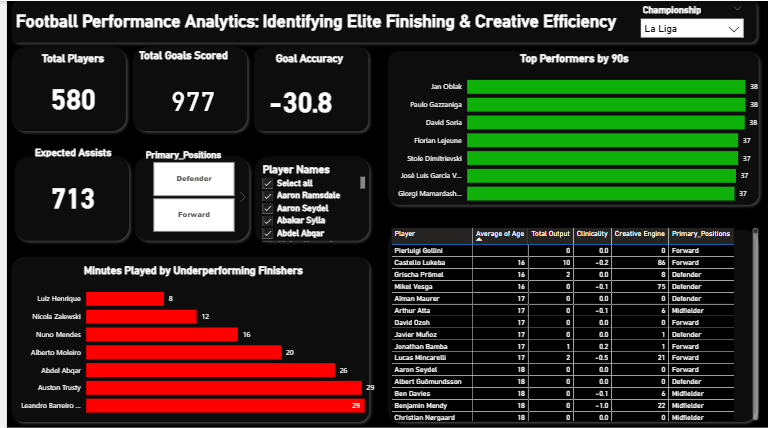

The dashboard page shown, as its layout file describes it:
{"tool":"powerbi","page":{"name":"Page 1","canvas":[1280,720],"ordinal":0},"visuals":[{"type":"cardVisual","title":"Total Players","fields":{"Data":["Count(Football_Clean_Final csv.Player)"]},"box":[15.3,86.5,191.6,139],"z":0},{"type":"cardVisual","title":"Goal Accuracy","fields":{"Data":["Football_Clean_Final csv.Clinicality"]},"box":[415.4,86.5,186.5,139],"z":1000},{"type":"slicer","fields":{"Values":["Football_Clean_Final csv.League"]},"box":[1054.5,0,191.6,74.6],"z":2000},{"type":"slicer","fields":{"Values":["Football_Clean_Final csv.Primary_Positions"]},"box":[220.1,243.6,186.5,151.2],"z":3000},{"type":"slicer","fields":{"Values":["Football_Clean_Final csv.Player"]},"box":[415.8,266.9,189.9,142],"z":4000},{"type":"tableEx","fields":{"Values":["Football_Clean_Final csv.Player","Avg(Football_Clean_Final csv.Age)","Football_Clean_Final csv.Total Output","Football_Clean_Final csv.Clinicality","Football_Clean_Final csv.Creative Engine","Football_Clean_Final csv.Primary_Positions"]},"box":[640,376.3,626.6,332.6],"z":5000},{"type":"clusteredBarChart","title":"Top Performers by 90s","fields":{"Category":["Football_Clean_Final csv.Player"],"Y":["Sum(Football_Clean_Final csv.90s)"]},"box":[640,85.7,626.6,267.1],"z":6000},{"type":"clusteredBarChart","title":"Minutes Played by Underperforming Finishers","fields":{"Category":["Football_Clean_Final csv.Player"],"Y":["Sum(Football_Clean_Final csv.90s)"]},"box":[0,441.8,626.6,267.1],"z":7000},{"type":"cardVisual","title":"Total Goals Scored","fields":{"Data":["Sum(Football_Clean_Final csv.Gls)"]},"box":[217.3,80.4,191.7,150.6],"z":8000},{"type":"cardVisual","title":"Expected Assists","fields":{"Data":["Sum(Football_Clean_Final csv.xAG)"]},"box":[15,244,192,151],"z":9000},{"type":"textbox","box":[15.4,17.1,1021.6,58.2],"z":10000}]}

Visuals, with their boxes in screenshot pixels (x1, y1, x2, y2), scaled from the page's 1280x720 canvas onto the 768x428 screenshot:
"Total Players" cardVisual: 9, 51, 124, 134
"Goal Accuracy" cardVisual: 249, 51, 361, 134
slicer - Football_Clean_Final csv.League: 633, 0, 748, 44
slicer - Football_Clean_Final csv.Primary_Positions: 132, 145, 244, 235
slicer - Football_Clean_Final csv.Player: 249, 159, 363, 243
tableEx - Football_Clean_Final csv.Player x Avg(Football_Clean_Final csv.Age): 384, 224, 760, 421
"Top Performers by 90s" clusteredBarChart: 384, 51, 760, 210
"Minutes Played by Underperforming Finishers" clusteredBarChart: 0, 263, 376, 421
"Total Goals Scored" cardVisual: 130, 48, 245, 137
"Expected Assists" cardVisual: 9, 145, 124, 235
textbox: 9, 10, 622, 45
